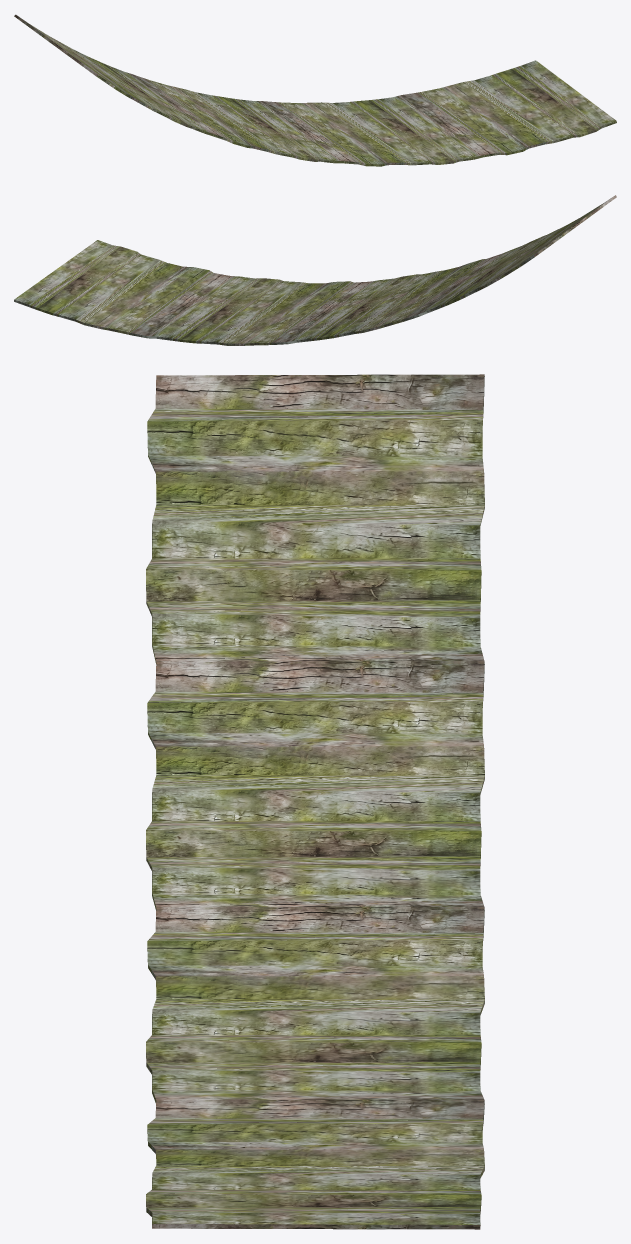
Rendered from RAMP-037.fbx.
3 views of the same model, one above another, from view 1: azimuth 30°, elevation 25°; view 2: azimuth 150°, elevation 25°; view 3: azimuth 270°, elevation 25° (orthographic). The views are drawn at different scales.
Visible parts, largest first — view 1: Ramp_037; view 2: Ramp_037; view 3: Ramp_037.
Boxes of the visible parts, left/top/right/bottom form: Ramp_037: left=14, top=14, right=616, bottom=166; Ramp_037: left=14, top=195, right=616, bottom=345; Ramp_037: left=146, top=374, right=484, bottom=1229.
Size of the model in its own units: 731 by 240 by 206.
